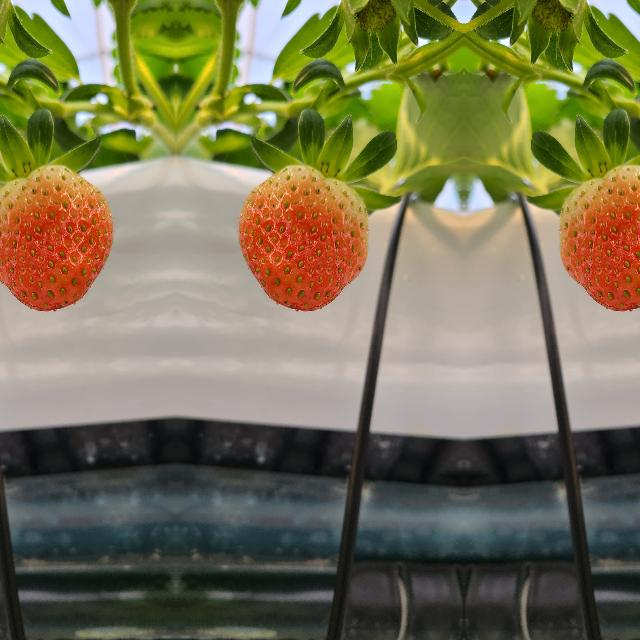Health_75: (235, 164, 368, 314), (0, 164, 114, 313), (557, 164, 640, 313)
